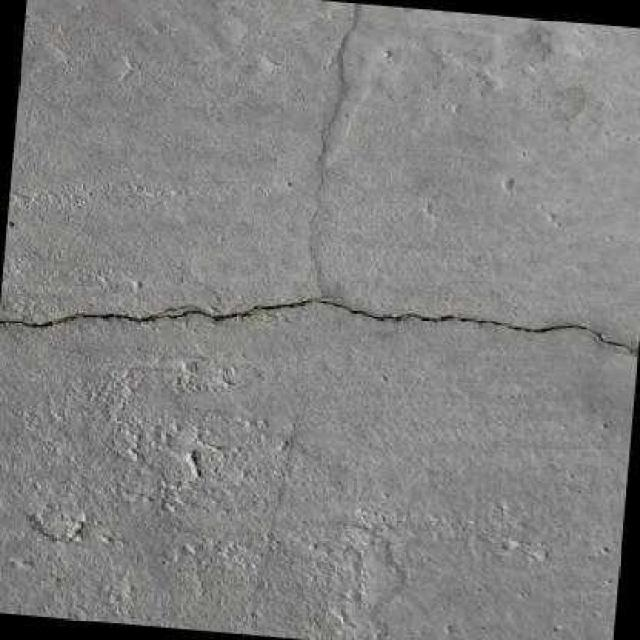D00: (0, 298, 639, 354)
